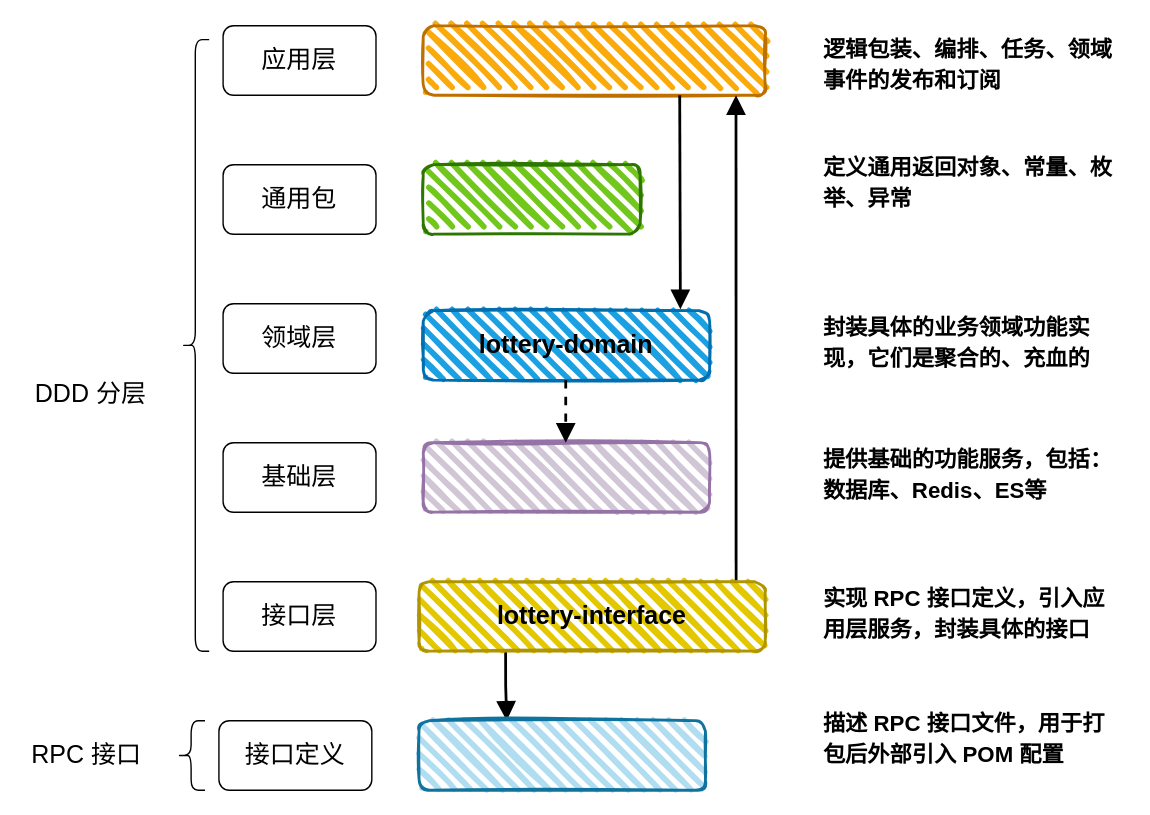
Some shapes in this 1150 by 815 pixel diagram are drawn without their labels. Each missing label, with the box of its shape:
lottery-application: (421, 24, 766, 96)
lottery-common: (421, 163, 641, 235)
lottery-infrastructure: (421, 441, 710, 513)
lottery-rpc: (417, 719, 706, 791)
